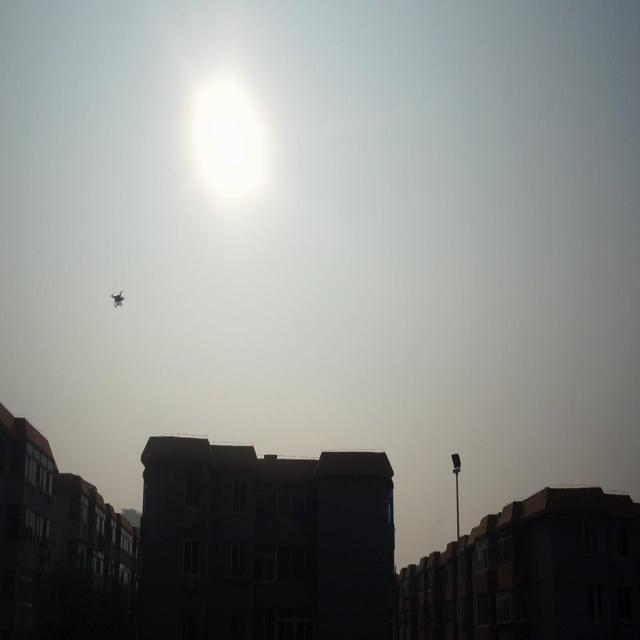drone: (110, 288, 126, 310)
